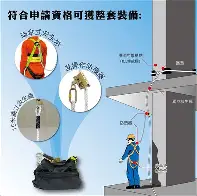safety belt: (26, 38, 46, 80), (127, 144, 143, 170)
